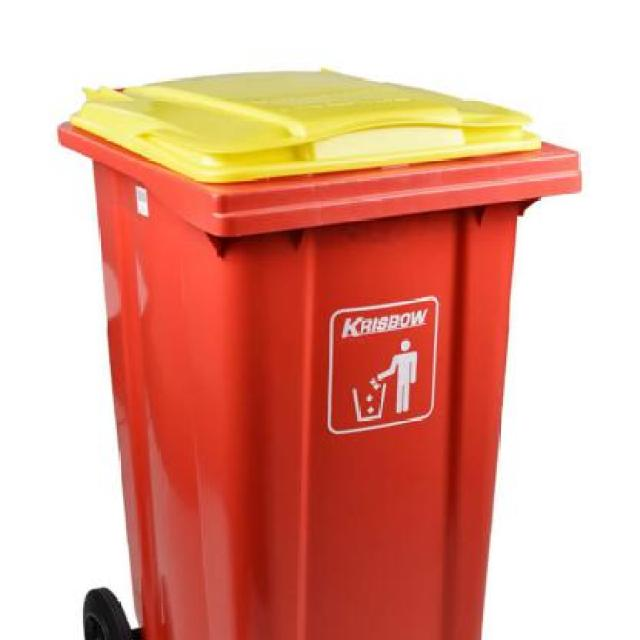garbage container: (46, 57, 603, 640)
